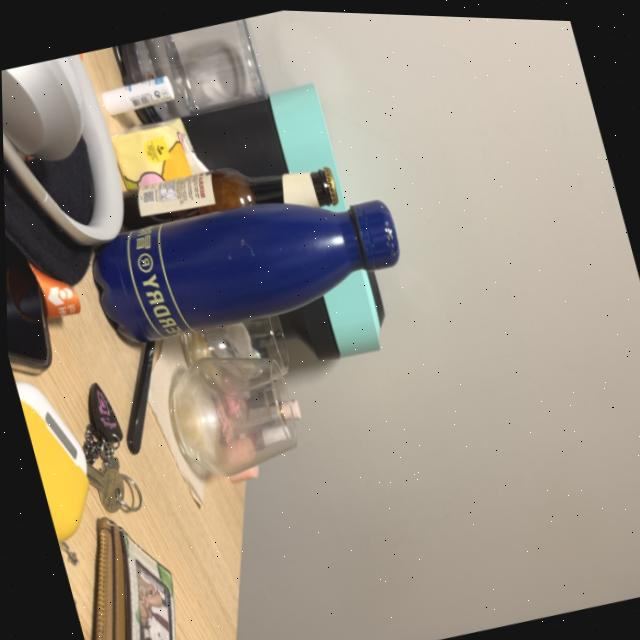beer: (109, 133, 342, 264)
